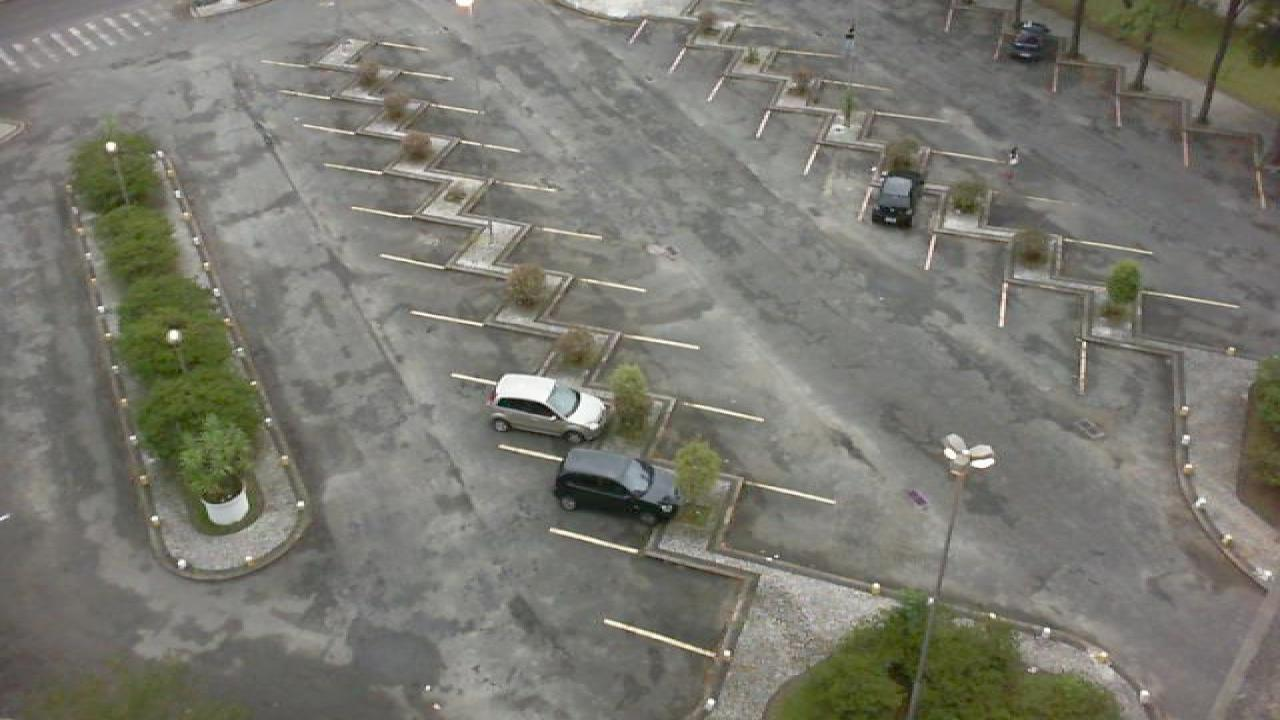Car: (554, 448, 684, 525), (488, 373, 610, 444), (868, 174, 918, 228), (1004, 21, 1056, 63)
